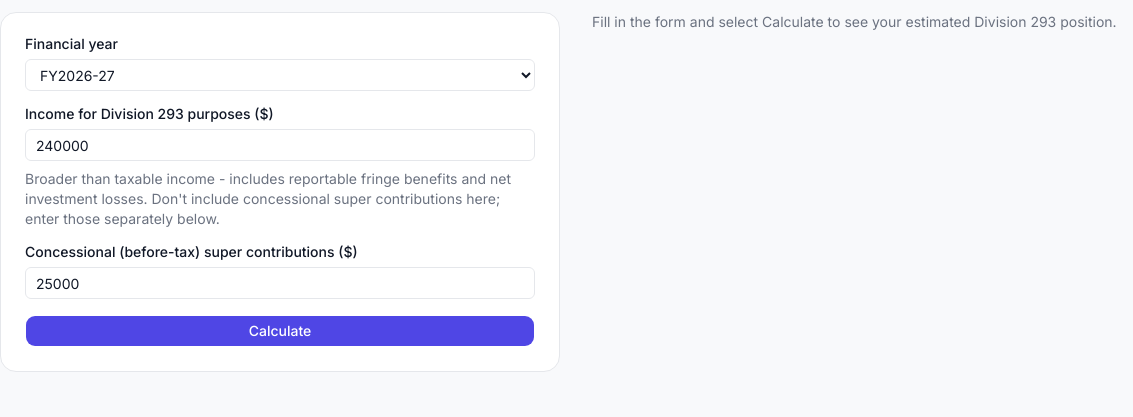
Scenario: Div293Calculator › rejects a negative concessional contributions figure
Replace the text in the number field labelled "Concessional (before-tax) super contributions ($)" with "-1" at (280, 283), box [25, 267, 535, 299]
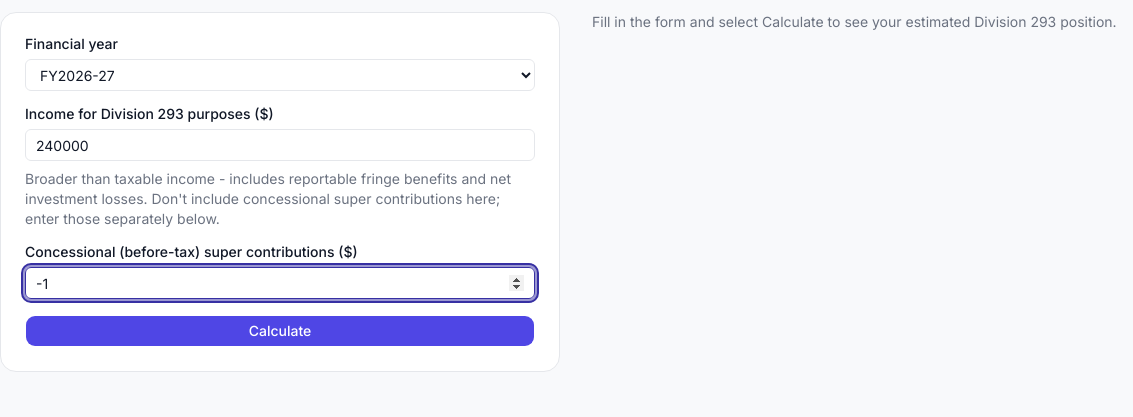
Click the button "Calculate" at (280, 331), box [25, 315, 535, 347]
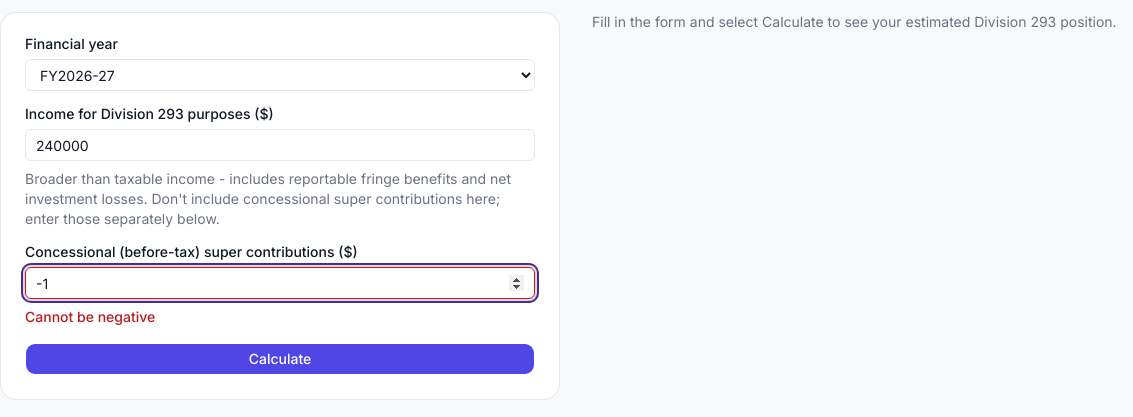
Check: the message reads "Cannot be negative", box [25, 308, 155, 325]
